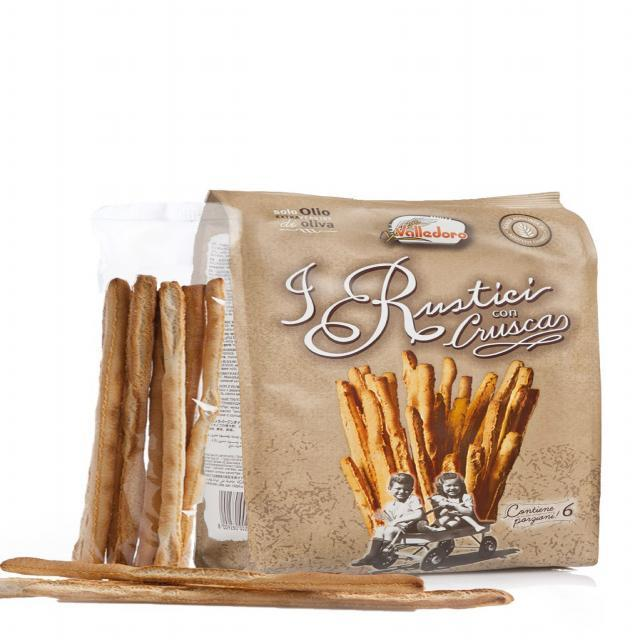Grissini: (81, 270, 207, 564), (4, 558, 518, 616)
